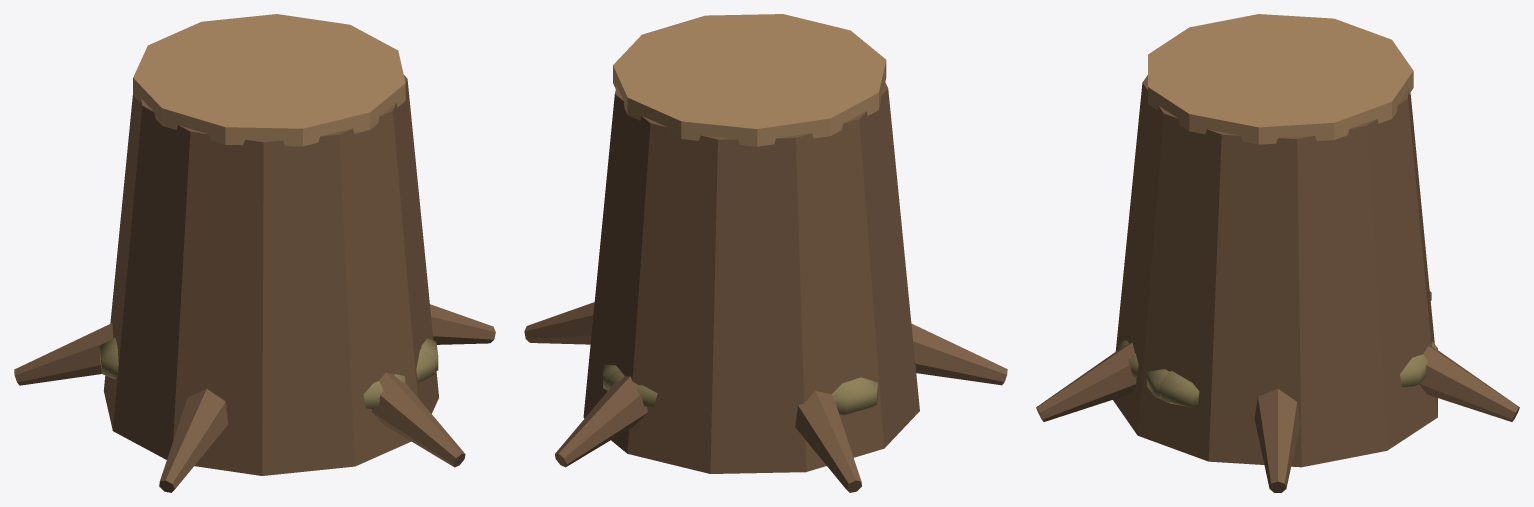
Rendered from stump_mossy_autumn.glb.
The picture shows the model from 3 angles, left to right: view 1: azimuth 30°, elevation 25°; view 2: azimuth 150°, elevation 25°; view 3: azimuth 270°, elevation 25°; orthographic projection. The views are drawn at different scales.
Visible parts, largest first — view 1: stump_mossy_autumn; view 2: stump_mossy_autumn; view 3: stump_mossy_autumn.
Part boxes in pixels (<box>): stump_mossy_autumn: <box>14,14,495,492</box>; stump_mossy_autumn: <box>524,14,1007,492</box>; stump_mossy_autumn: <box>1036,14,1519,492</box>.
Bounding box in the file's own units: 1.33 × 1.04 × 1.39.
